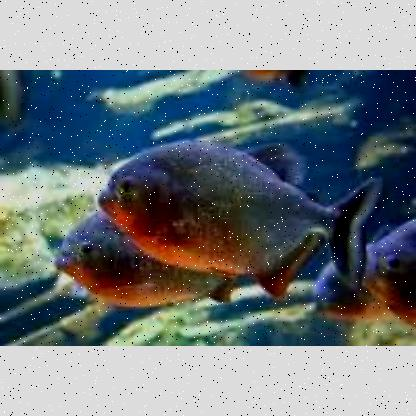ikan-pacu: (100, 146, 352, 266), (59, 210, 224, 300)
